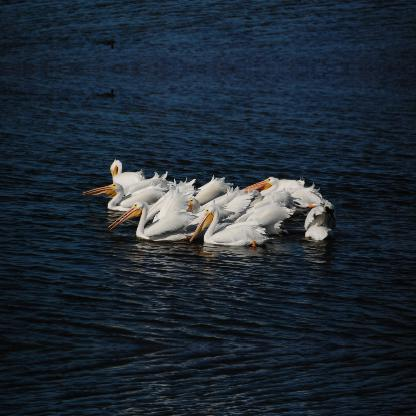Bird: (81, 152, 336, 248), (188, 197, 274, 247)
